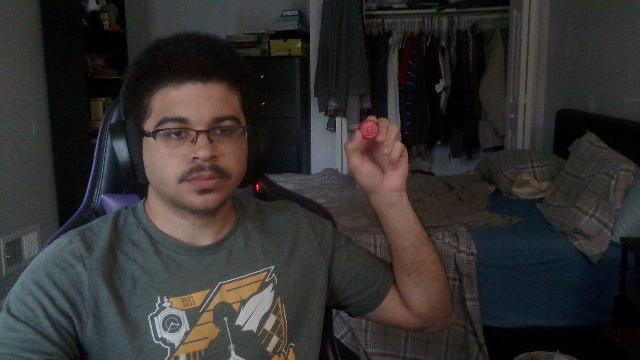cap: (359, 120, 379, 140)
